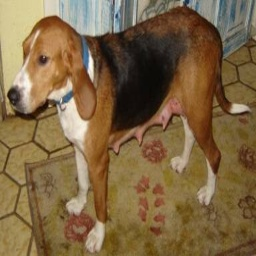dog: (10, 5, 244, 248)
